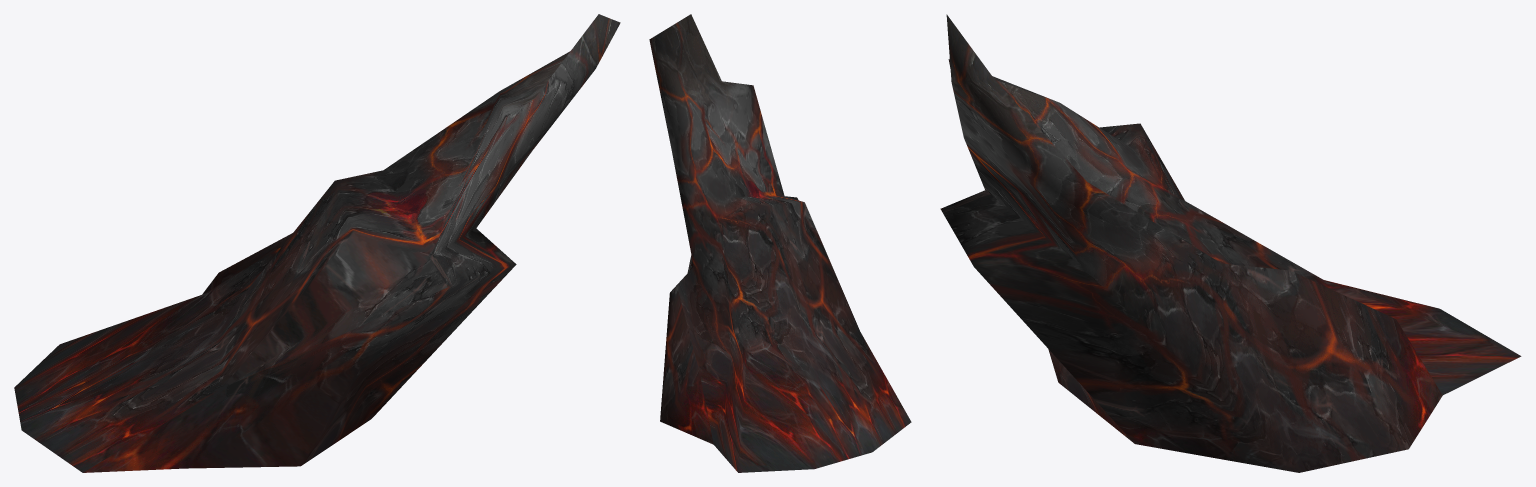
Rendered from 10504_LavaStone14.FBX.
3 renders of one model, left to right at view 1: azimuth 30°, elevation 25°; view 2: azimuth 150°, elevation 25°; view 3: azimuth 270°, elevation 25°, orthographic. The views are drawn at different scales.
Visible parts, largest first — view 1: 10504_LavaStone14; view 2: 10504_LavaStone14; view 3: 10504_LavaStone14.
Boxes of the visible parts, <box> form: 10504_LavaStone14: <box>14,14,620,472</box>; 10504_LavaStone14: <box>649,14,911,472</box>; 10504_LavaStone14: <box>940,14,1521,472</box>.
Bounding box in the file's own units: 703 × 621 × 624.
